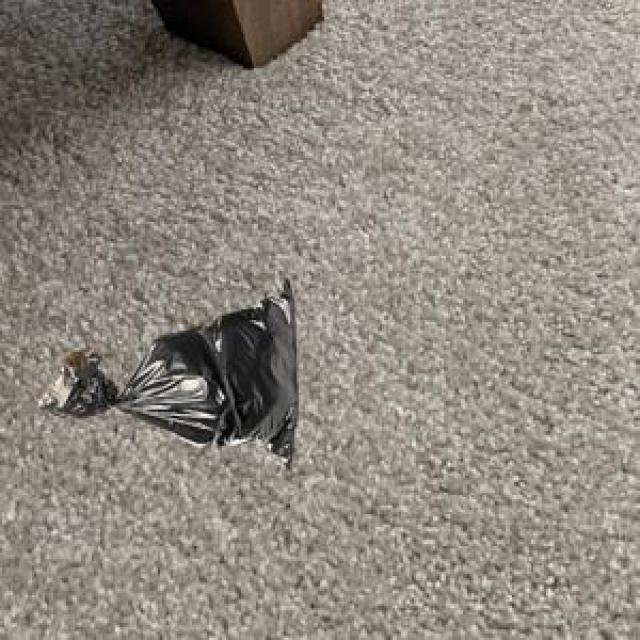Vinyl: (39, 279, 299, 461)
